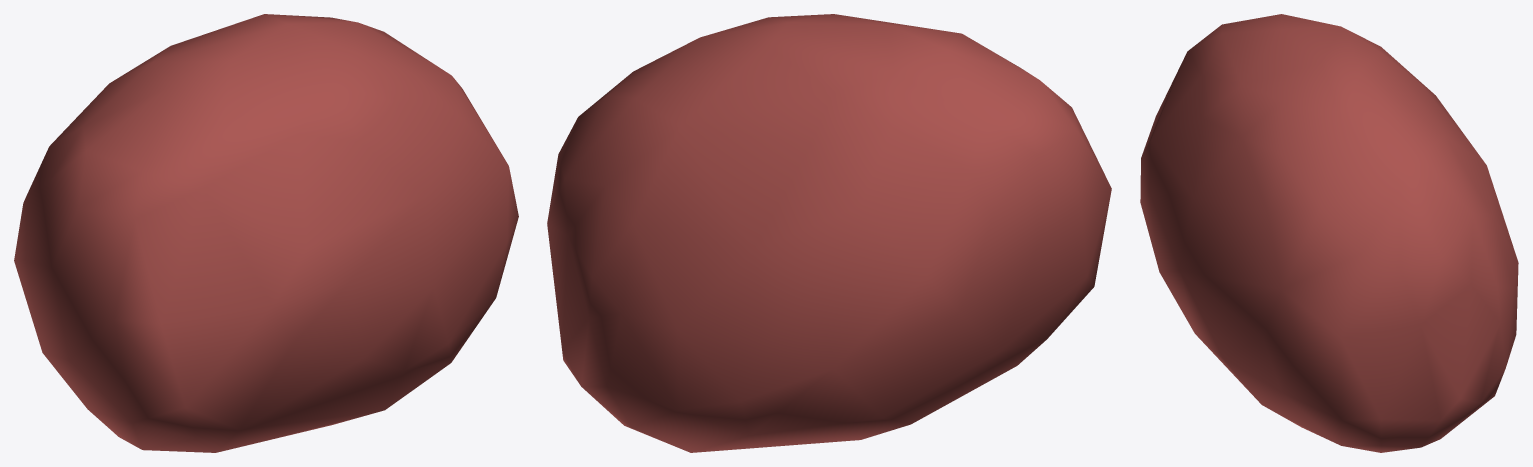
The model's file is FMA73422.glb.
3 views of the same model, side by side, from view 1: azimuth 30°, elevation 25°; view 2: azimuth 150°, elevation 25°; view 3: azimuth 270°, elevation 25° (orthographic). The views are drawn at different scales.
Parts seen in each view (by area): view 1: FMA73422; view 2: FMA73422; view 3: FMA73422.
Boxes of the visible parts, x1=… form: FMA73422: x1=14, y1=14, x2=518, y2=452; FMA73422: x1=547, y1=14, x2=1111, y2=452; FMA73422: x1=1140, y1=14, x2=1518, y2=452.
Bounding box in the file's own units: 0.0074 × 0.00577 × 0.00576.
